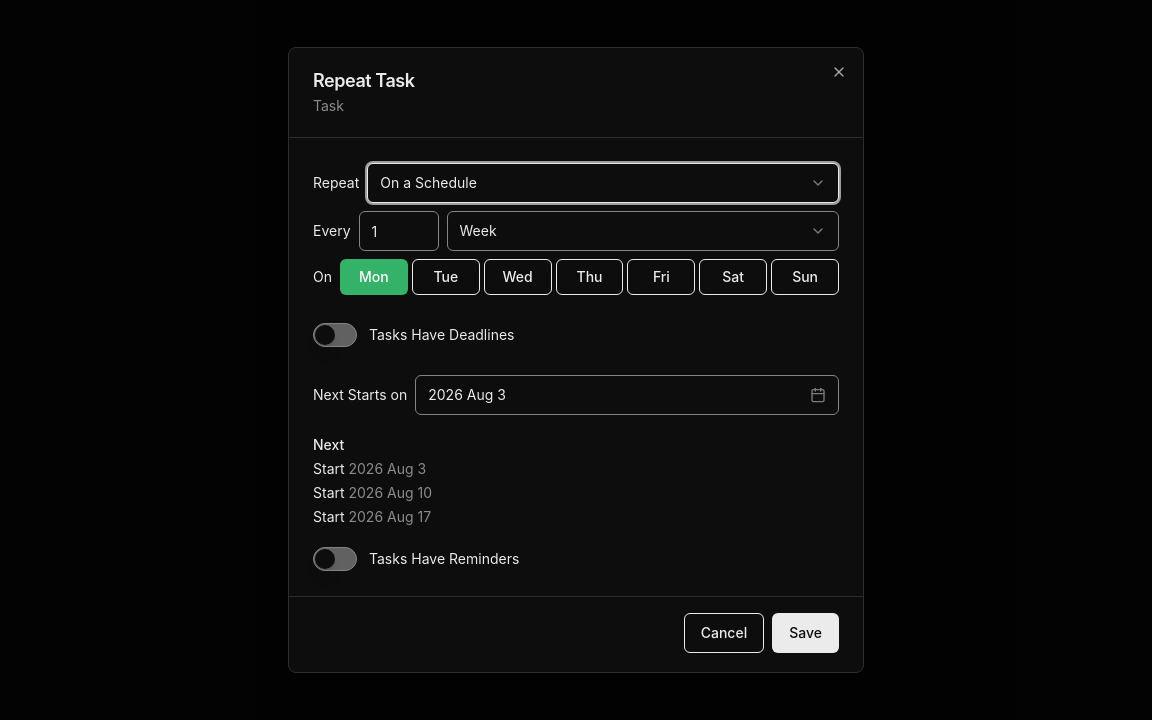
Test: TaskRepeatDialog › disables reminders when a committed reminder value is empty or unparseable
Later steps or results of the test are not shown.
Click the switch named "Tasks Have Reminders".
click(335, 559)  # box 313,547 -> 357,571
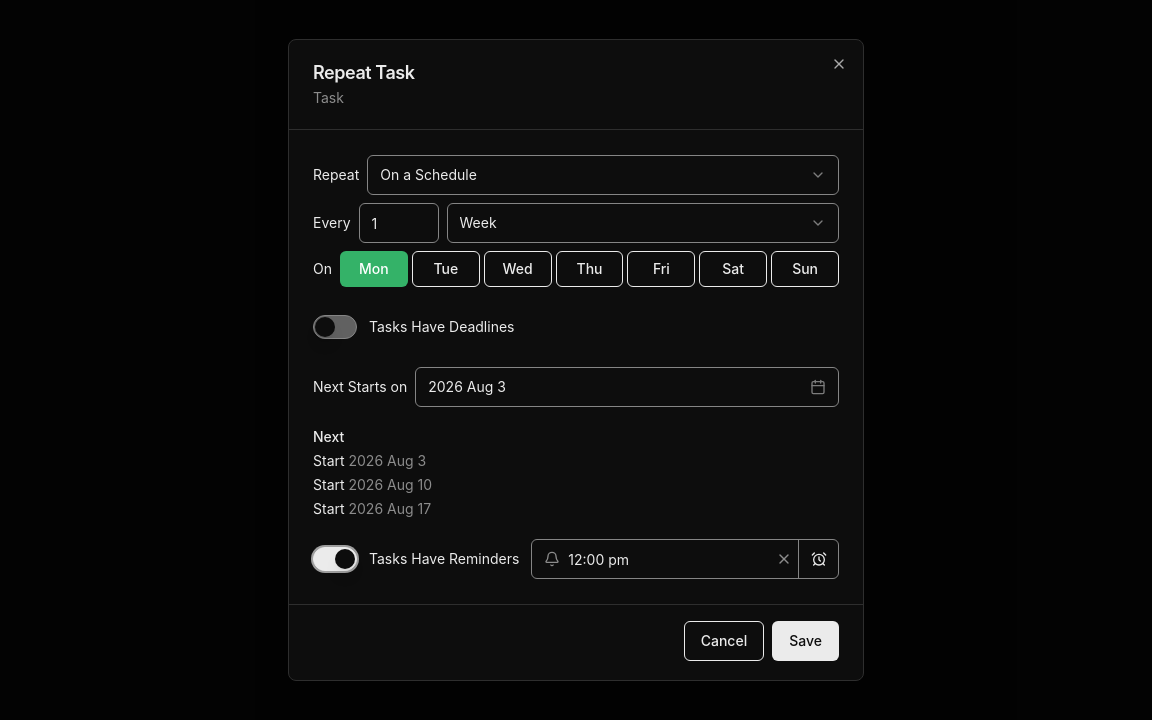
Clear the field named "Reminder Time" at {"x": 651, "y": 559}, box 532,539 -> 770,579
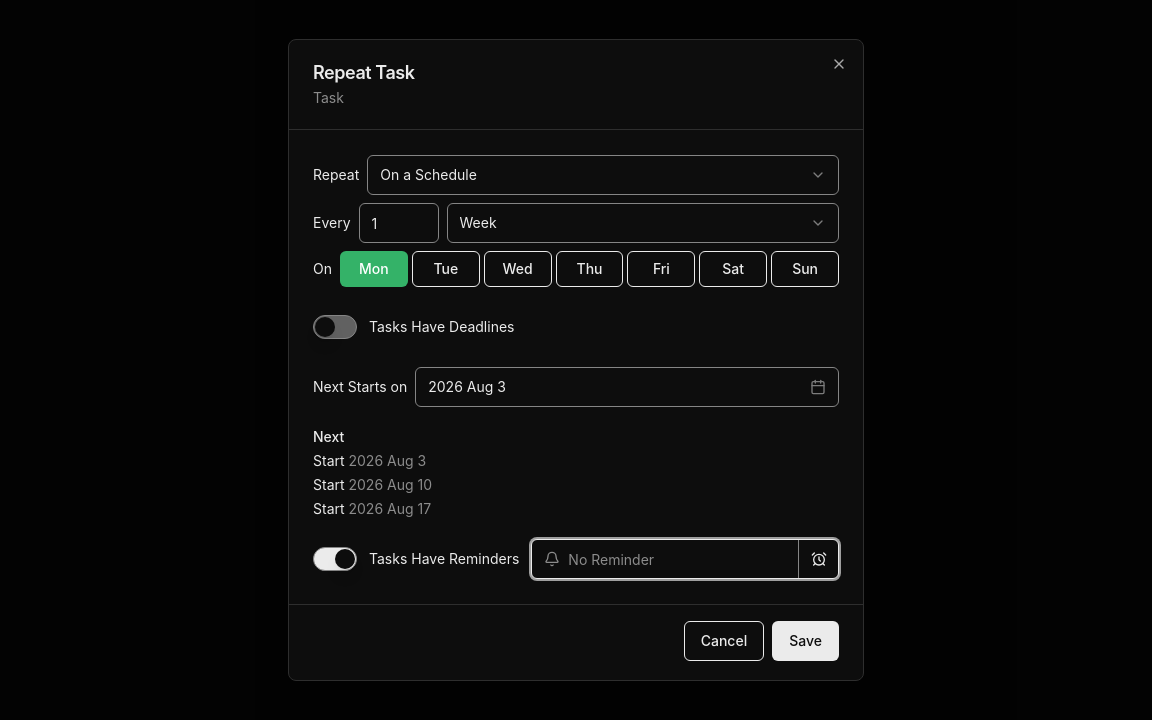
Press Tab
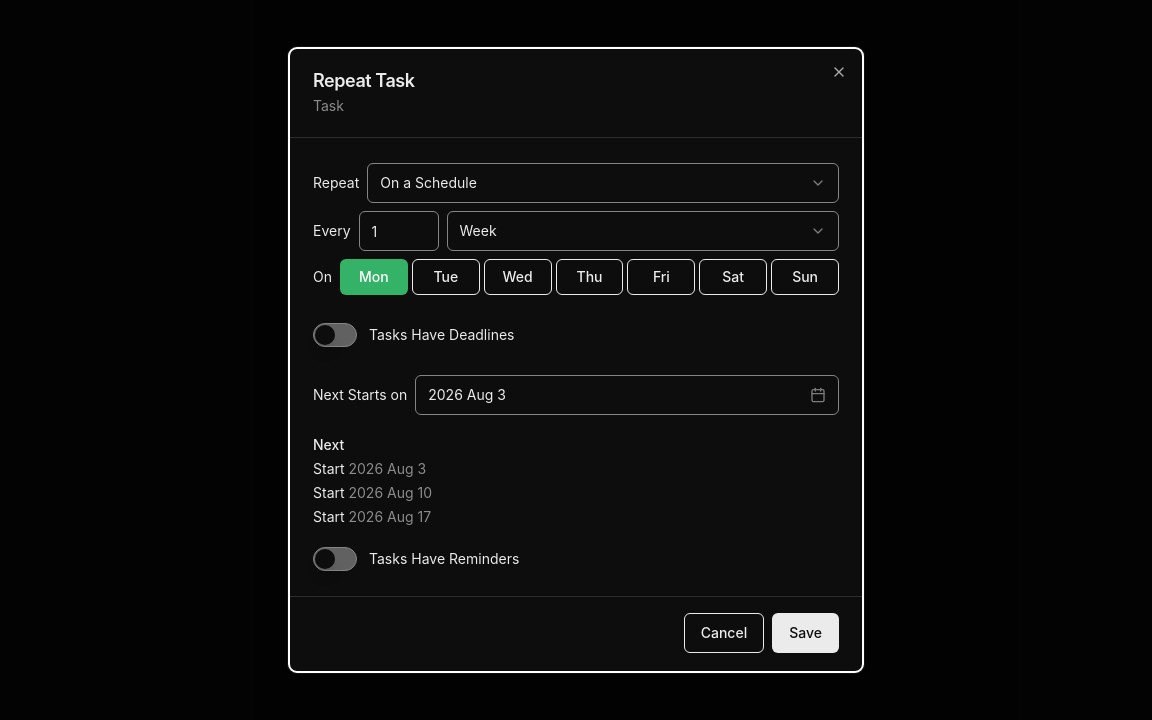
Result: the switch named "Tasks Have Reminders" is not checked at 313,547 -> 357,571
